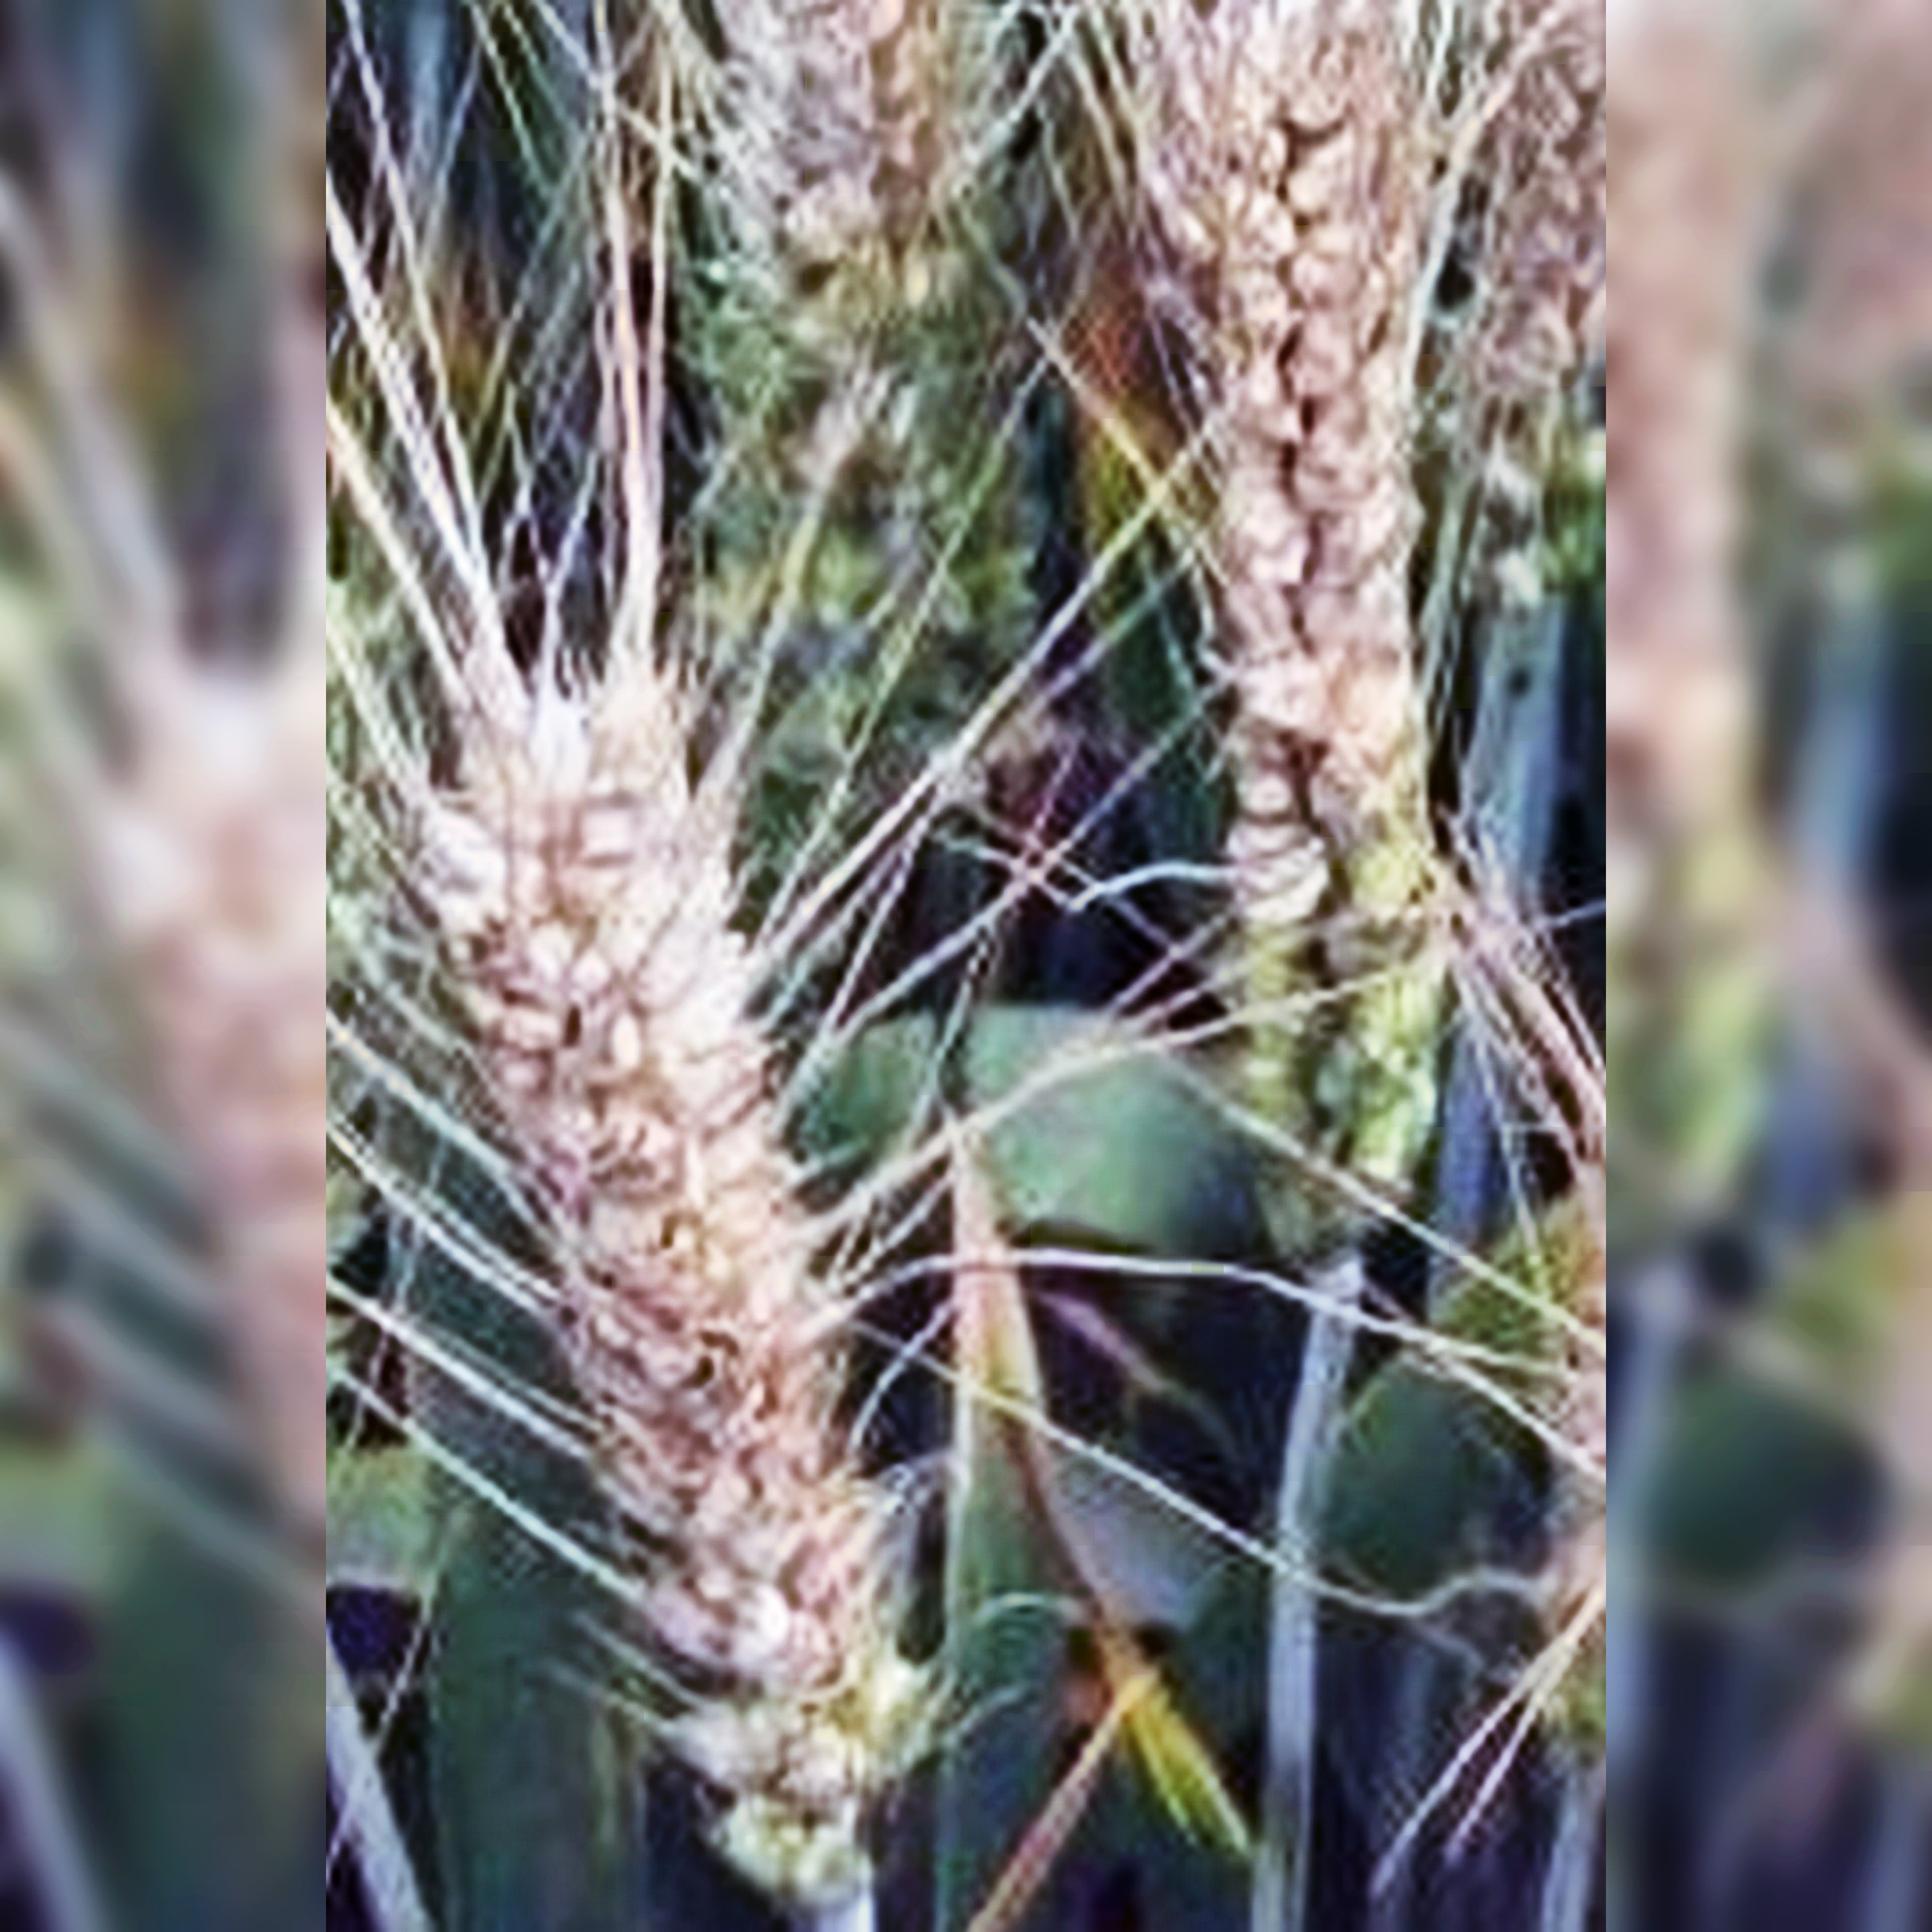Wheat scab: (1178, 117, 1479, 1226)
